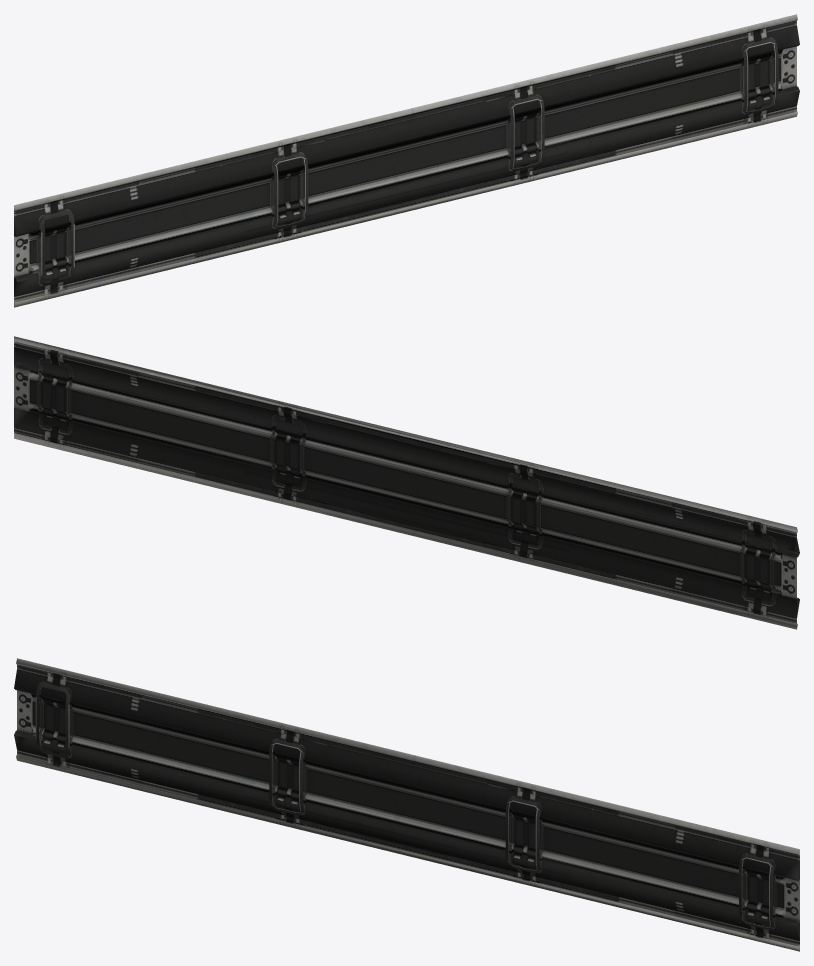
File: Panel_B_05x4_1_L2.FBX
3 views of the same model, one above another, from view 1: azimuth 30°, elevation 25°; view 2: azimuth 150°, elevation 25°; view 3: azimuth 330°, elevation 25° (orthographic).
Parts seen in each view (by area): view 1: Panel_B_05x4_1_L2; view 2: Panel_B_05x4_1_L2; view 3: Panel_B_05x4_1_L2.
Boxes of the visible parts, x1,y1,x2,y2 form: Panel_B_05x4_1_L2: (14,14,799,307); Panel_B_05x4_1_L2: (14,336,799,629); Panel_B_05x4_1_L2: (14,658,799,951).
Size of the model in its own units: 400 by 50 by 3.95.
